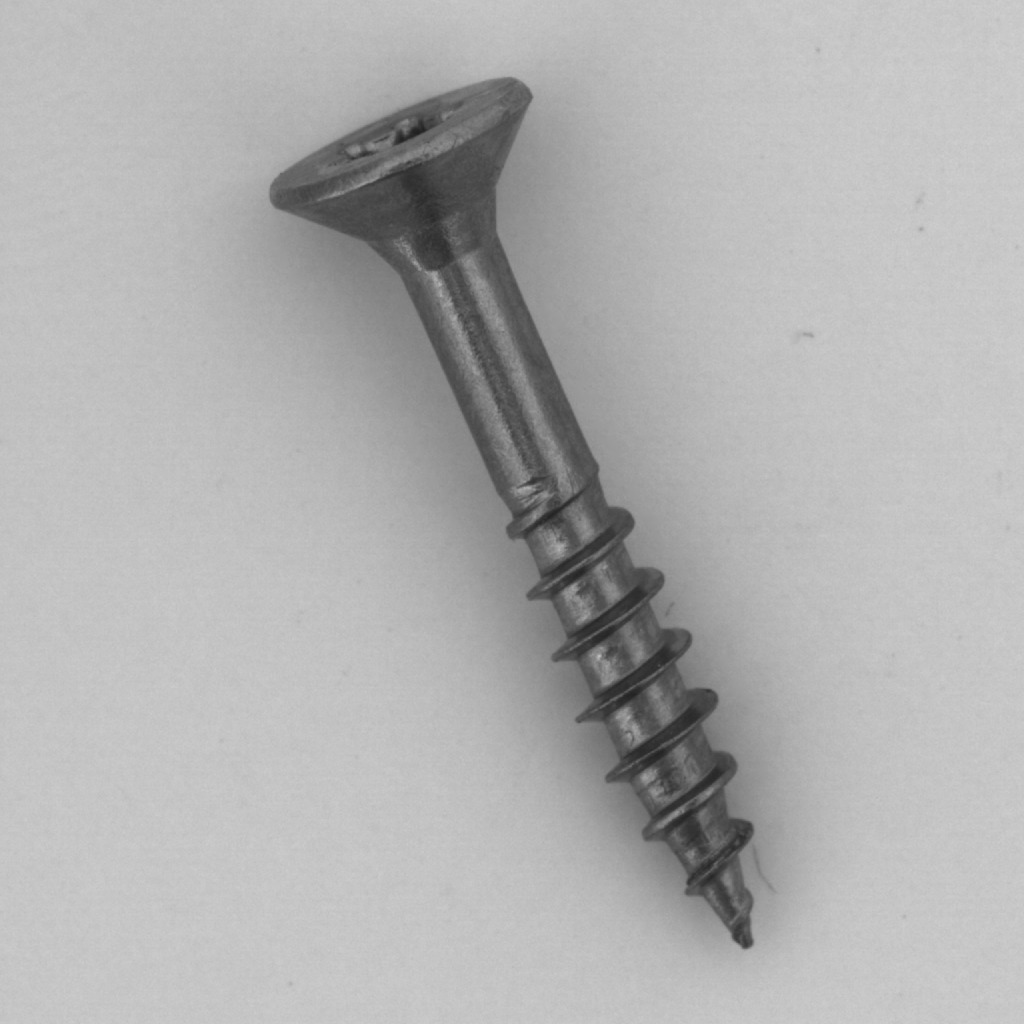good: (254, 62, 781, 964)
